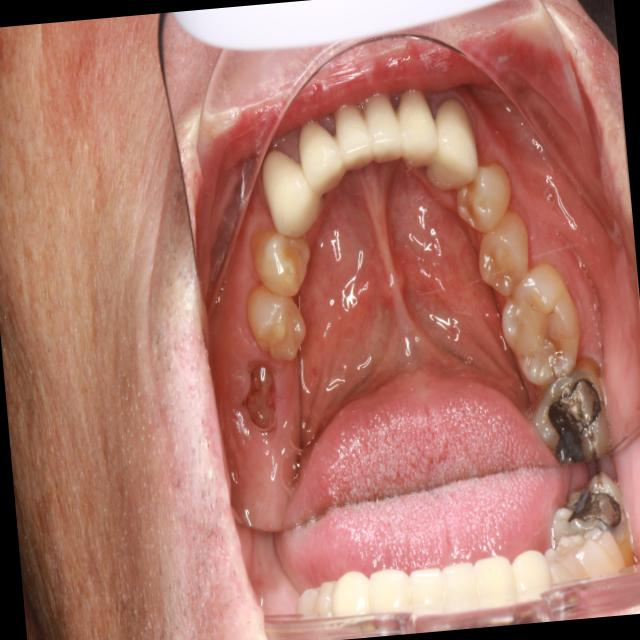tooth: (493, 251, 587, 394), (523, 363, 615, 469), (254, 139, 330, 242), (410, 90, 483, 195), (239, 274, 314, 368), (469, 203, 537, 301), (246, 214, 319, 305), (448, 153, 518, 238), (389, 77, 445, 179), (294, 113, 349, 198), (358, 85, 405, 170), (330, 95, 377, 176)
